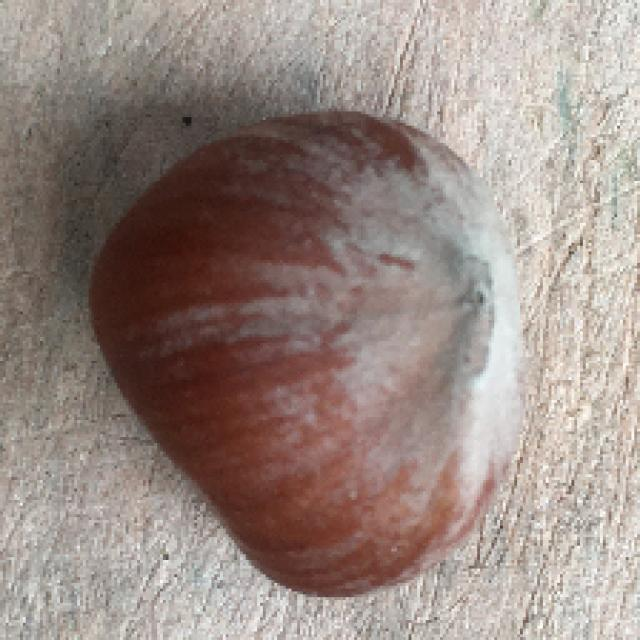qualityHazelnut: (77, 102, 533, 594)
